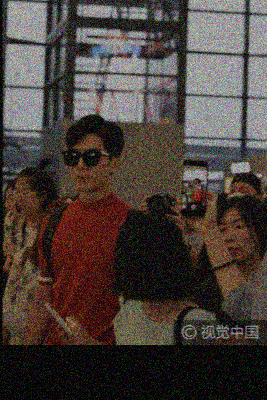without_mask: (68, 145, 110, 193), (218, 217, 259, 263), (14, 185, 38, 214), (3, 193, 17, 218)
